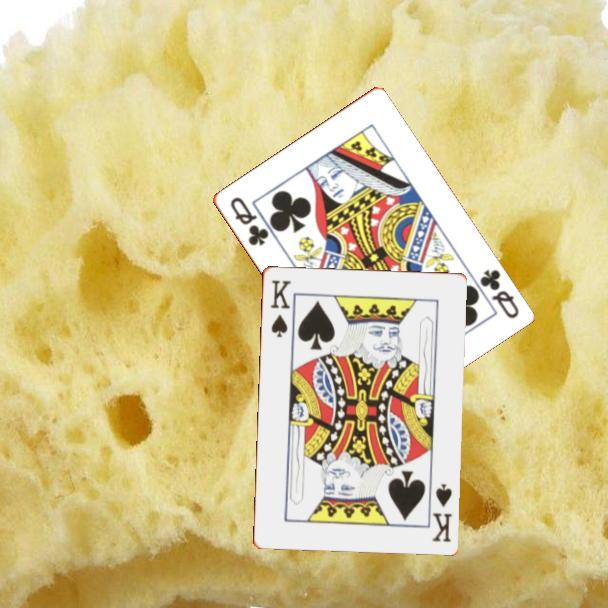c12: (226, 193, 271, 249), (476, 266, 521, 322)
s13: (428, 480, 455, 544), (267, 276, 293, 340)
